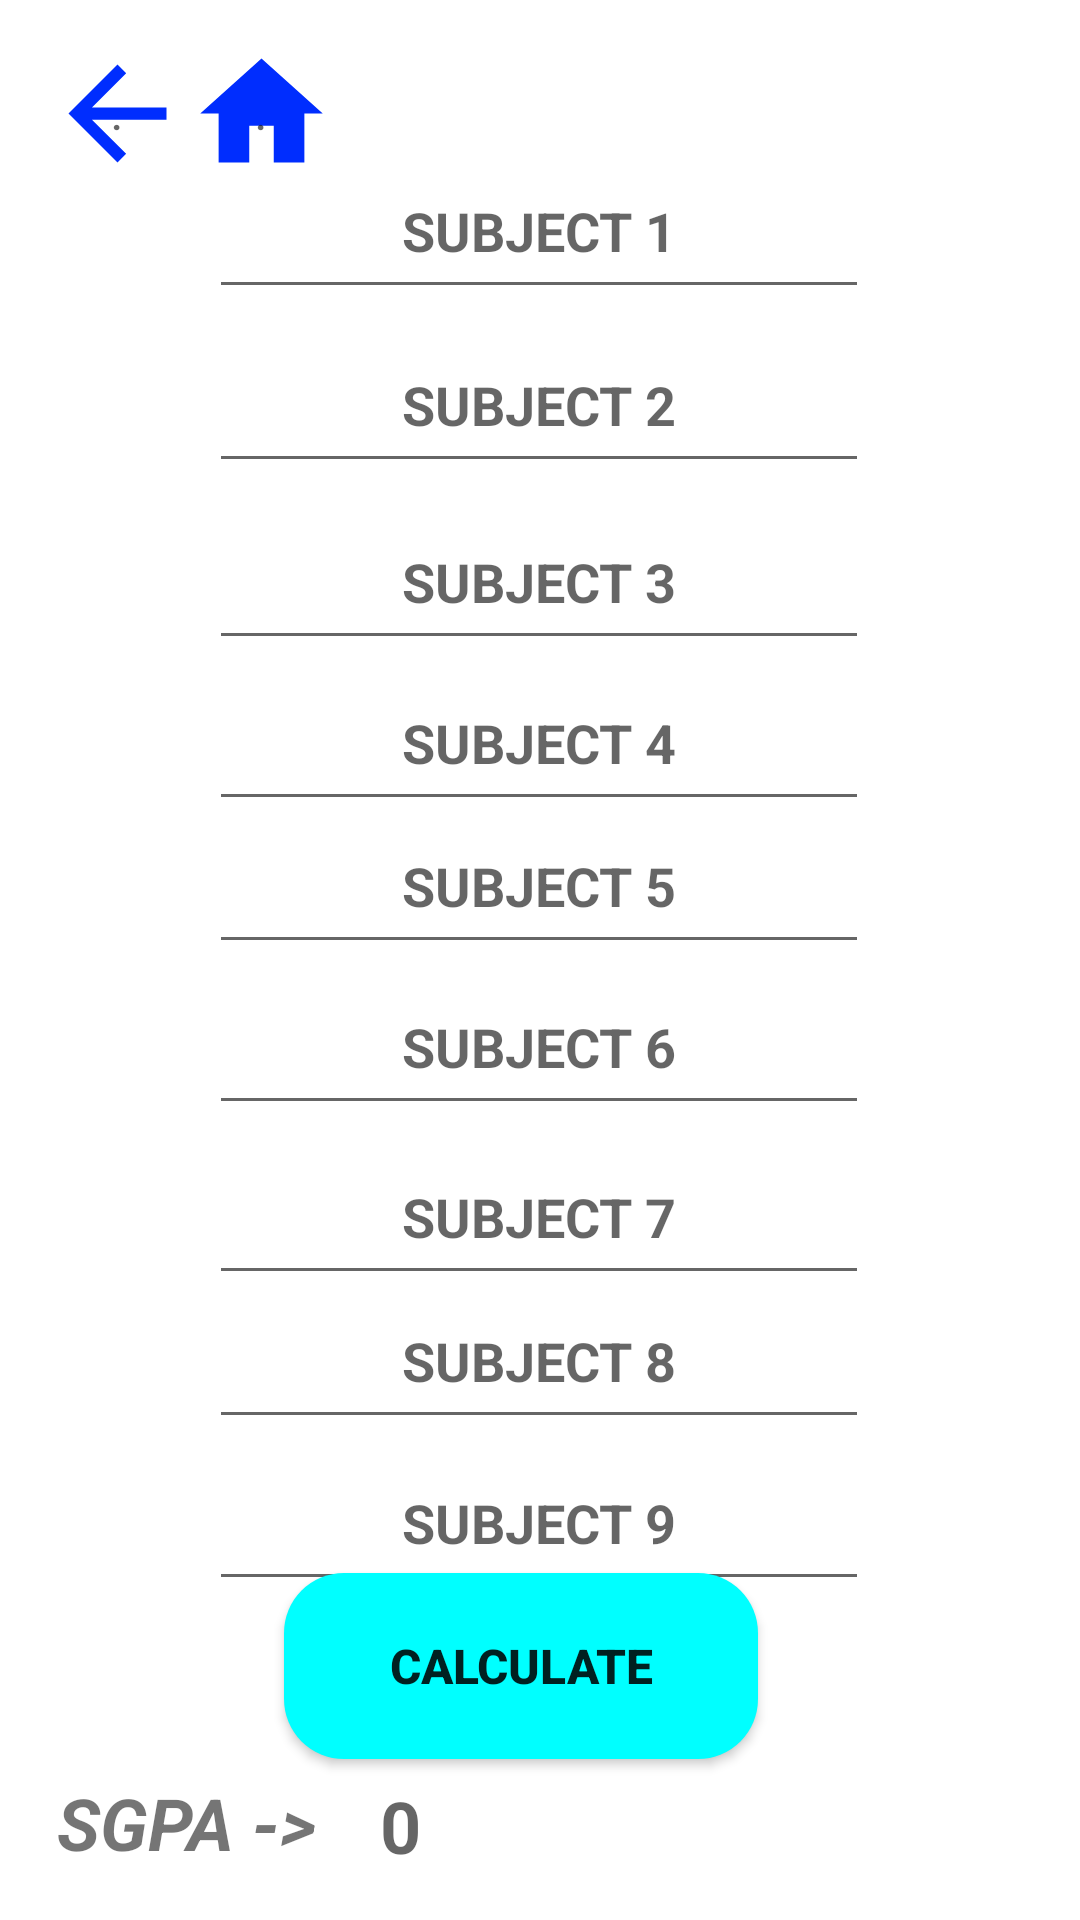

Screen size 1080x1920. Icon name, then its box in pixels as bbox=(x1, y1, x2, y2):
arrow back: bbox=(68, 64, 167, 163)
home: bbox=(200, 58, 323, 163)
